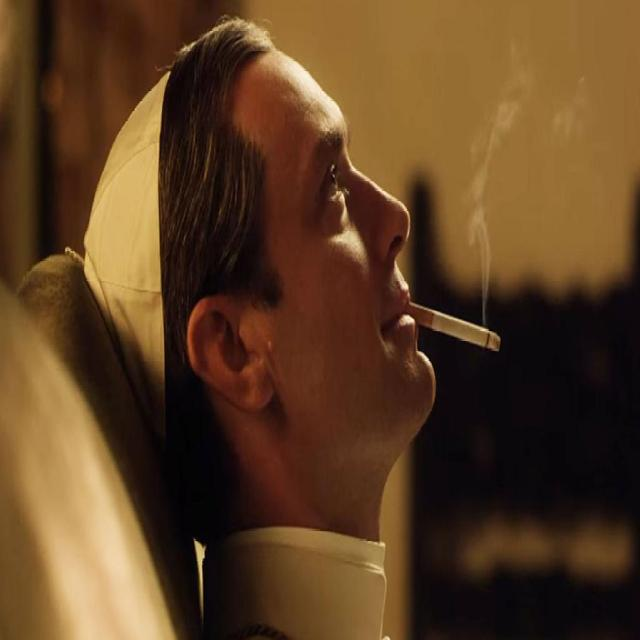smoking: (169, 20, 500, 522)
